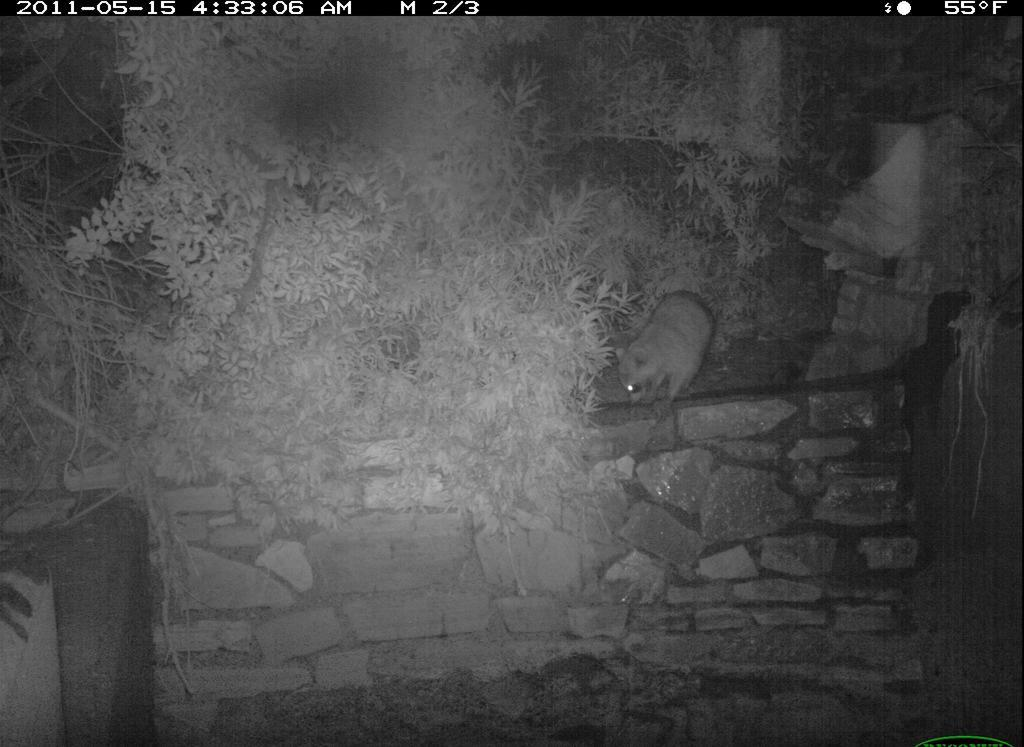raccoon: (609, 285, 722, 428)
